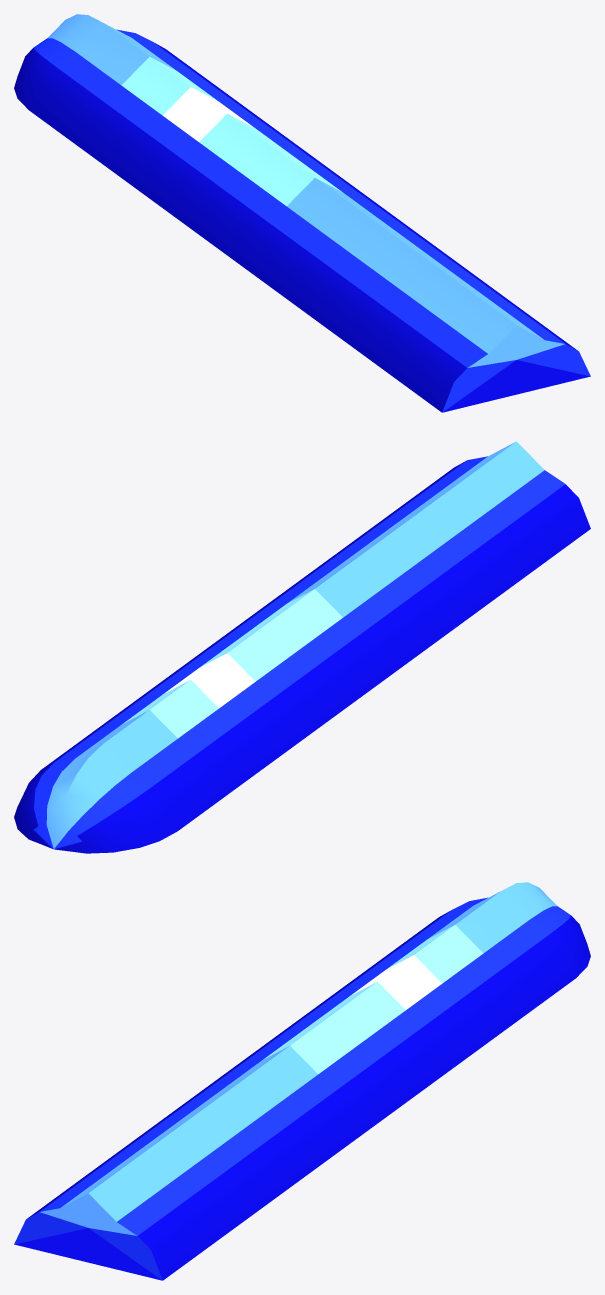
Rendered from shot_needle.glb.
3 renders of one model, top to bottom at view 1: azimuth 30°, elevation 25°; view 2: azimuth 150°, elevation 25°; view 3: azimuth 330°, elevation 25°, orthographic.
Parts seen in each view (by area): view 1: shot_needle; view 2: shot_needle; view 3: shot_needle.
Part boxes in pixels (x1,y1,x2,y2): shot_needle: (14, 14, 590, 412); shot_needle: (14, 441, 590, 853); shot_needle: (14, 882, 590, 1280).
Bounding box in the file's own units: 2.6 × 1.16 × 14.
